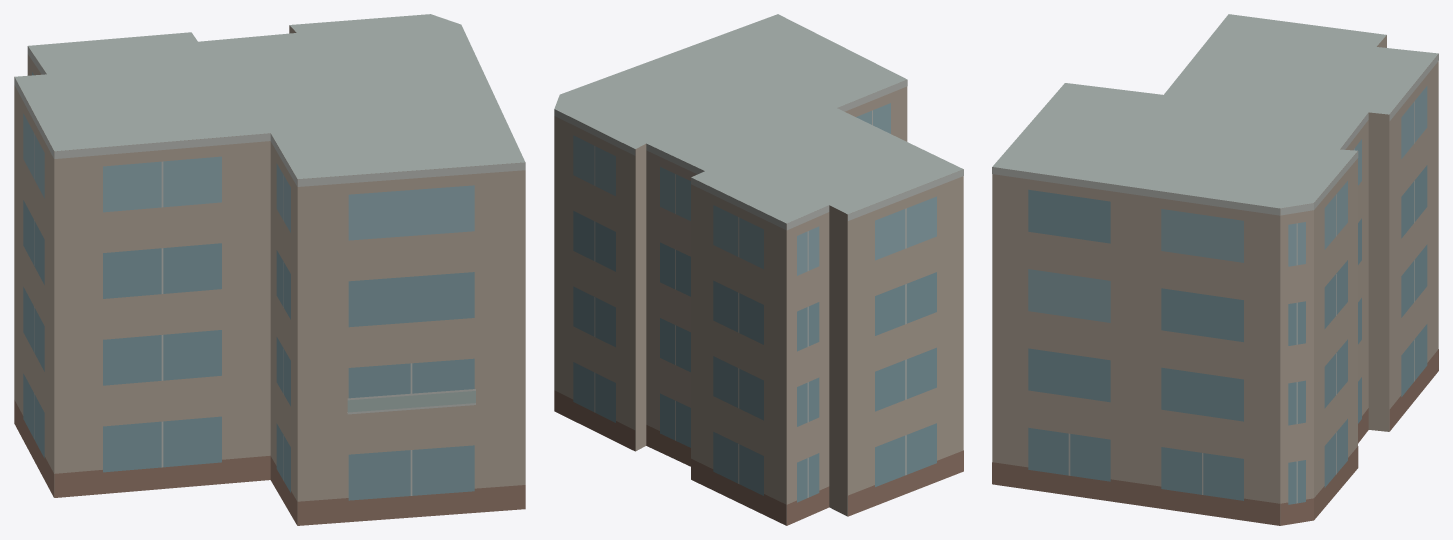
File: survey-upis-33018435.glb
3 views of the same model, side by side, from view 1: azimuth 30°, elevation 25°; view 2: azimuth 150°, elevation 25°; view 3: azimuth 270°, elevation 25° (orthographic). The views are drawn at different scales.
Visible parts, largest first — view 1: survey-upis-33018435.tmp; view 2: survey-upis-33018435.tmp; view 3: survey-upis-33018435.tmp.
Boxes of the visible parts, x1=… form: survey-upis-33018435.tmp: x1=14, y1=14, x2=525, y2=525; survey-upis-33018435.tmp: x1=554, y1=14, x2=963, y2=525; survey-upis-33018435.tmp: x1=992, y1=14, x2=1438, y2=525.
Bounding box in the file's own units: 14.2 × 10.8 × 13.78.
